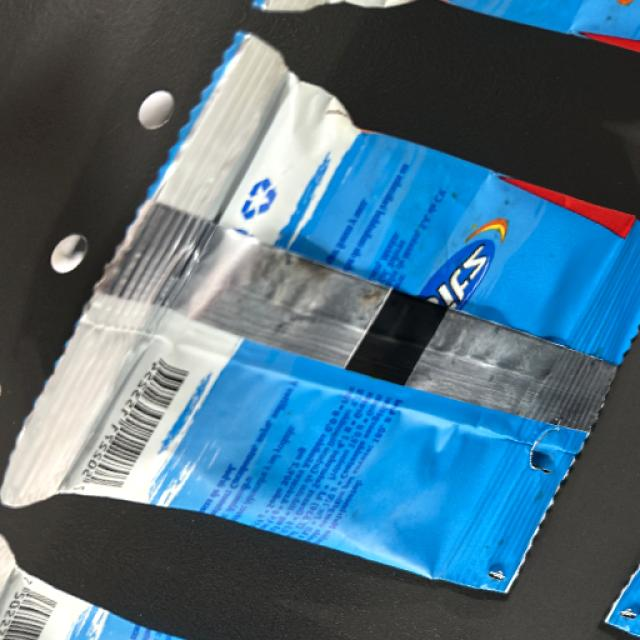productoAtras: (143, 104, 549, 555)
